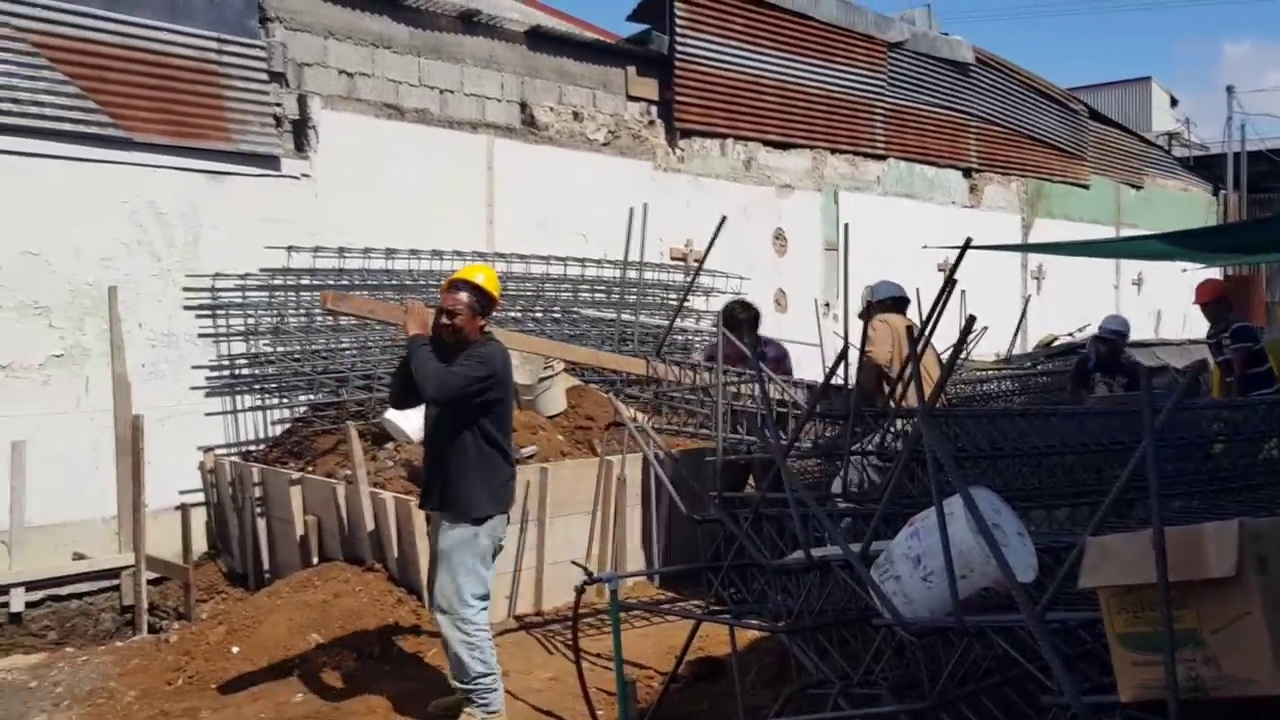helmet: (437, 261, 501, 304), (857, 280, 912, 318), (1193, 279, 1226, 305), (1098, 313, 1130, 336)
helmet-off: (720, 303, 763, 353)
helmet-on: (435, 262, 501, 346), (857, 280, 911, 325), (1193, 279, 1236, 328), (1096, 314, 1130, 349)
person: (388, 262, 521, 720), (832, 280, 940, 527), (708, 299, 801, 516), (1193, 278, 1273, 398), (1067, 312, 1146, 402)
